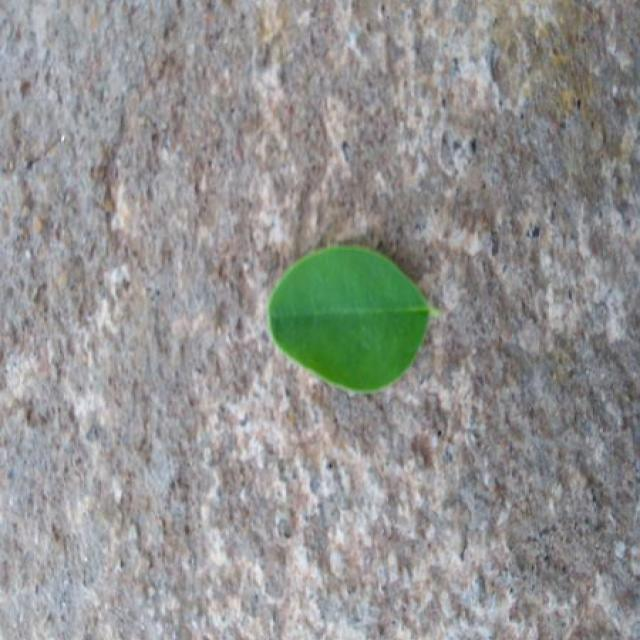drumstick: (268, 246, 435, 392)
